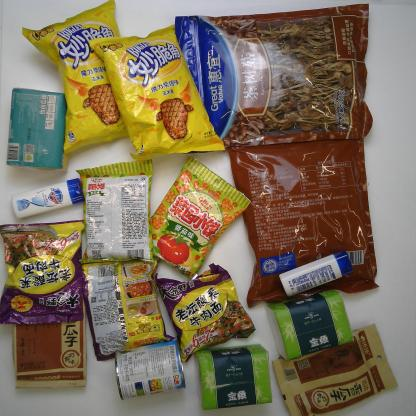Canned Food: (113, 339, 188, 400)
Dried Food: (175, 2, 376, 144), (226, 137, 380, 306), (271, 324, 398, 416), (10, 285, 88, 388)
Instant Noodles: (154, 263, 256, 362), (78, 256, 174, 361), (1, 220, 85, 325)
Personal Hygiene: (280, 253, 354, 295), (11, 178, 87, 218)
Puffed Food: (23, 1, 142, 153), (91, 25, 227, 157), (146, 157, 249, 279), (74, 159, 157, 264)
Tissue: (266, 290, 355, 361), (5, 87, 70, 172), (193, 346, 273, 410)
